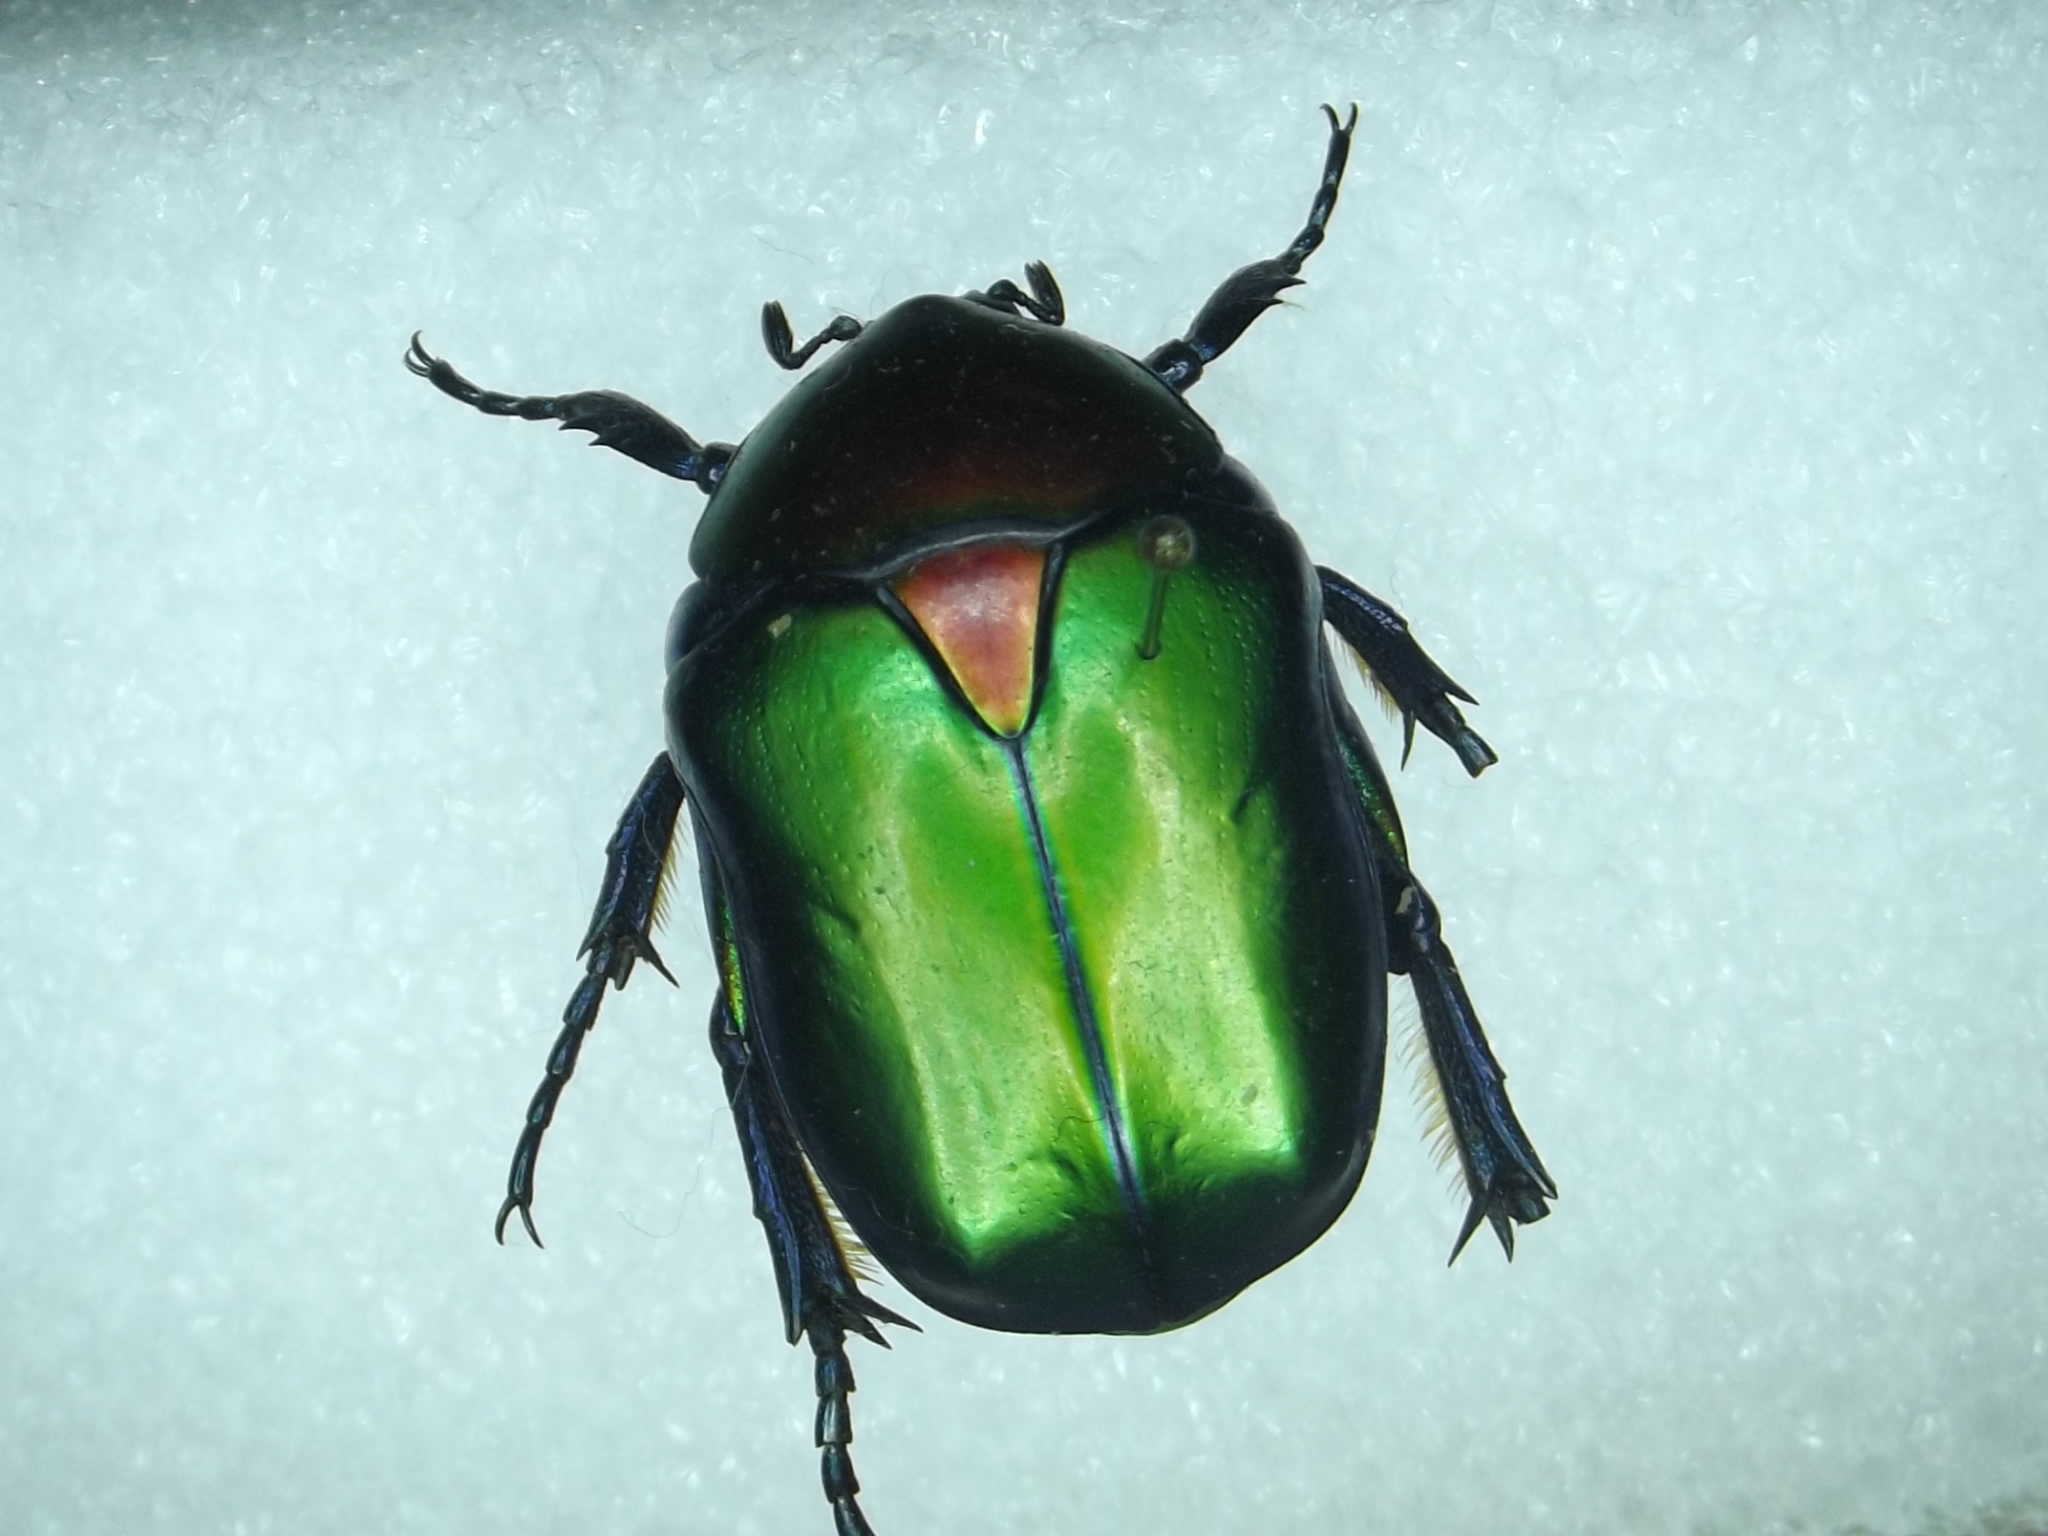Protaetia_speciosa_jousseliniw: (377, 77, 1564, 1536)
